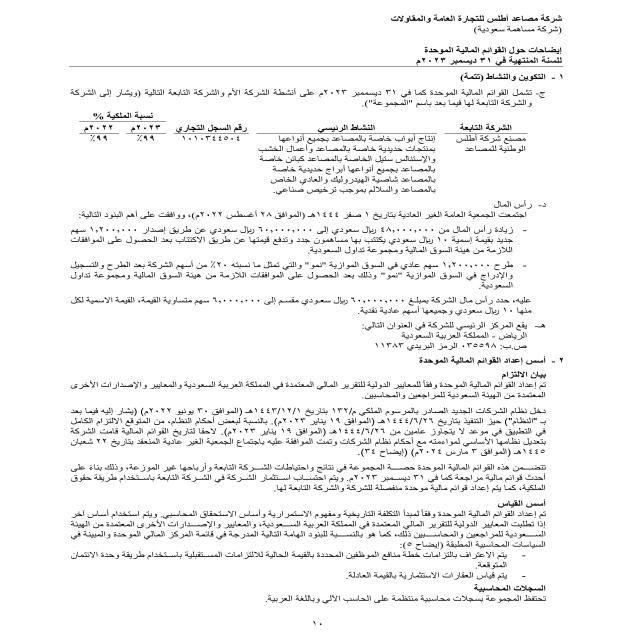notes: (413, 43, 568, 55)
table: (58, 115, 534, 206)
